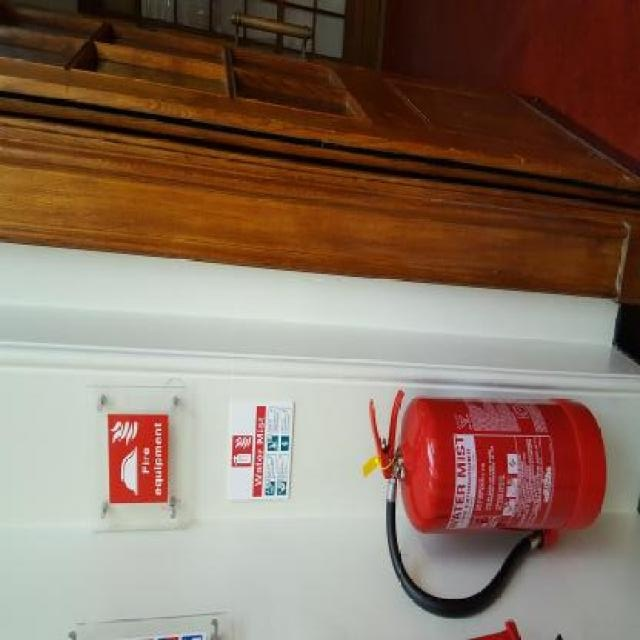fire extinguisher: (369, 388, 606, 620)
